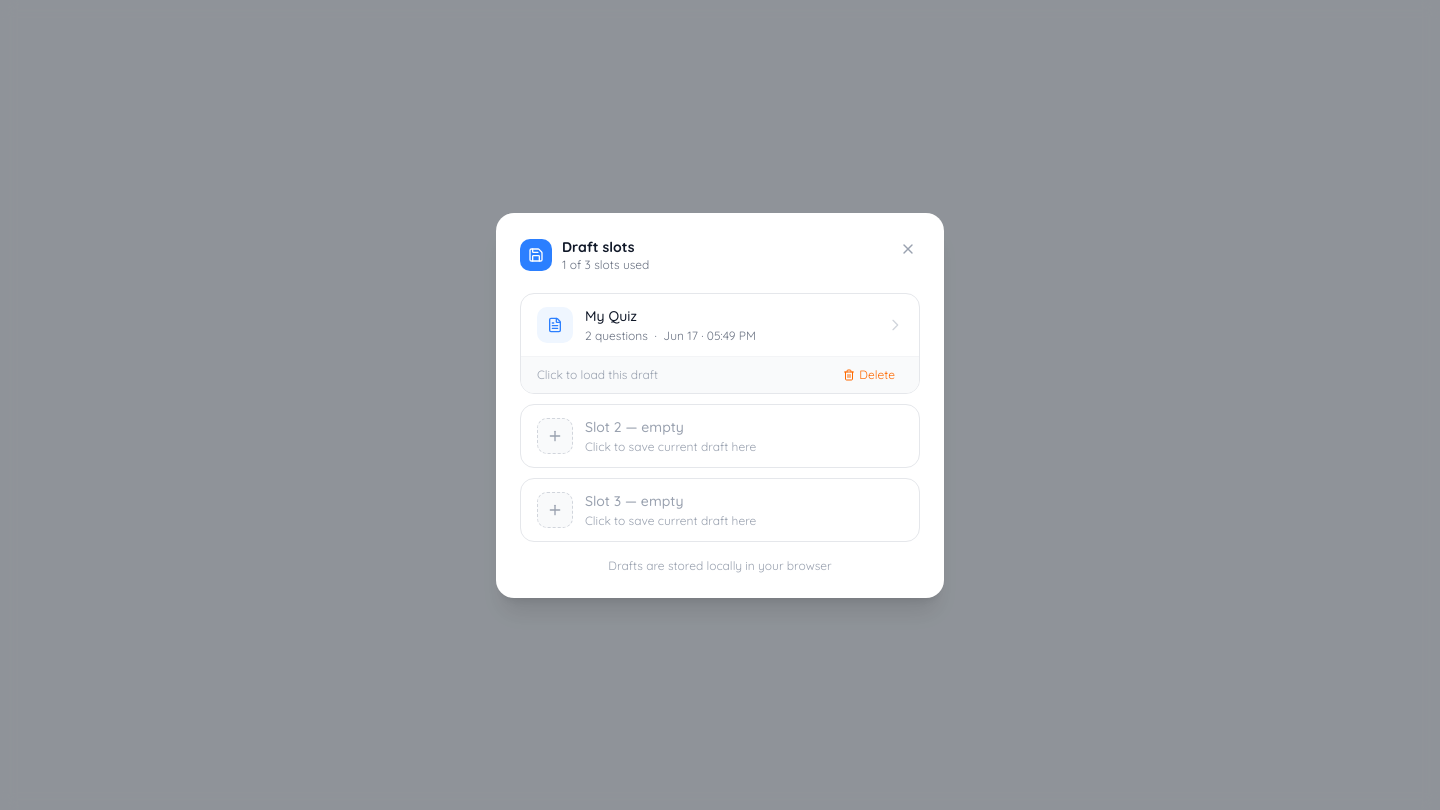
Test: DraftPopup UI behaviour › FE-65: dismisses the duplicate warning when its × button is clicked
Click the button "Slot 2 — empty Click to save current draft here": point(720, 436) [521,404,919,466]
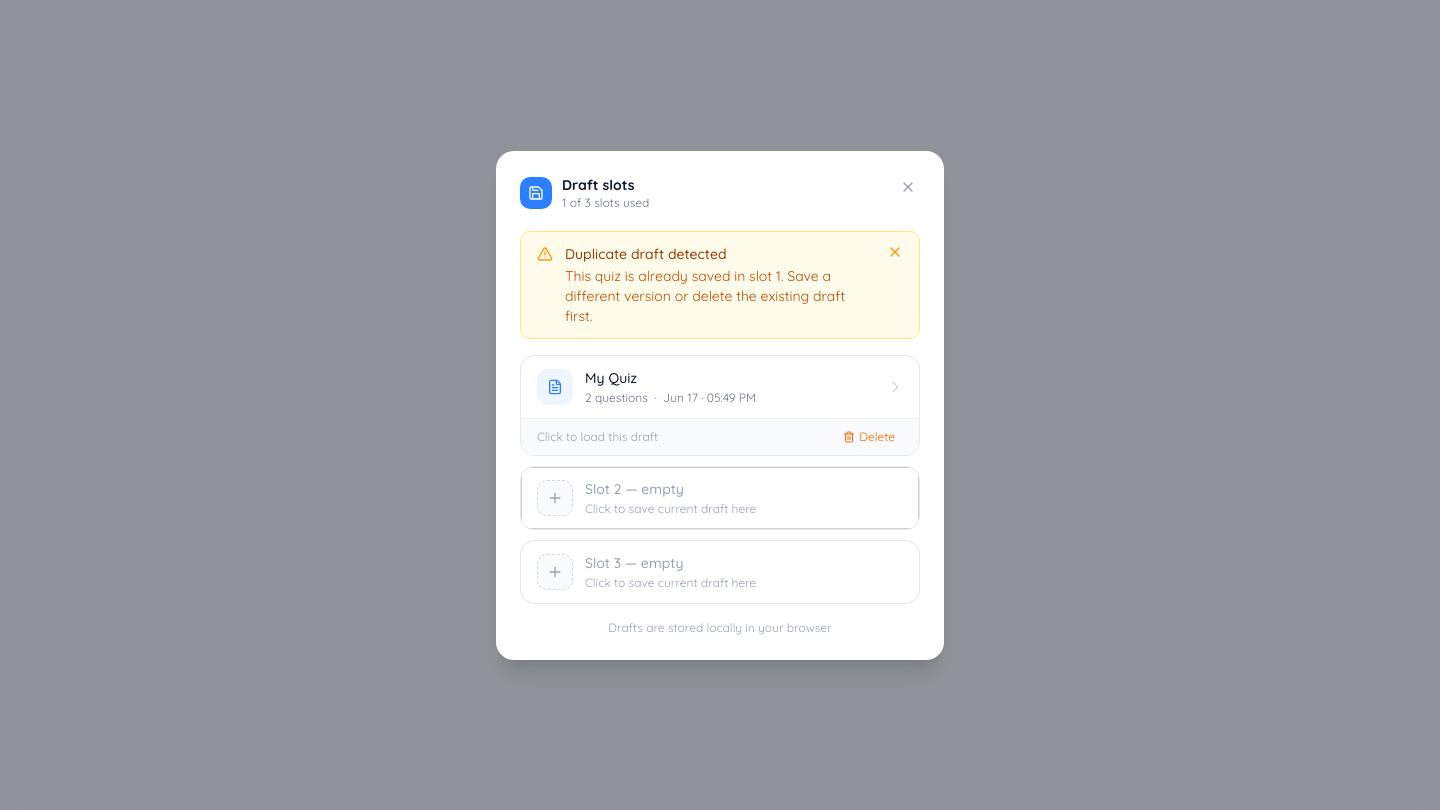
Expected: the text "Duplicate draft detected" is shown, [565,244,726,262]
Click the button named "dismiss": point(895, 252) [887,244,903,260]
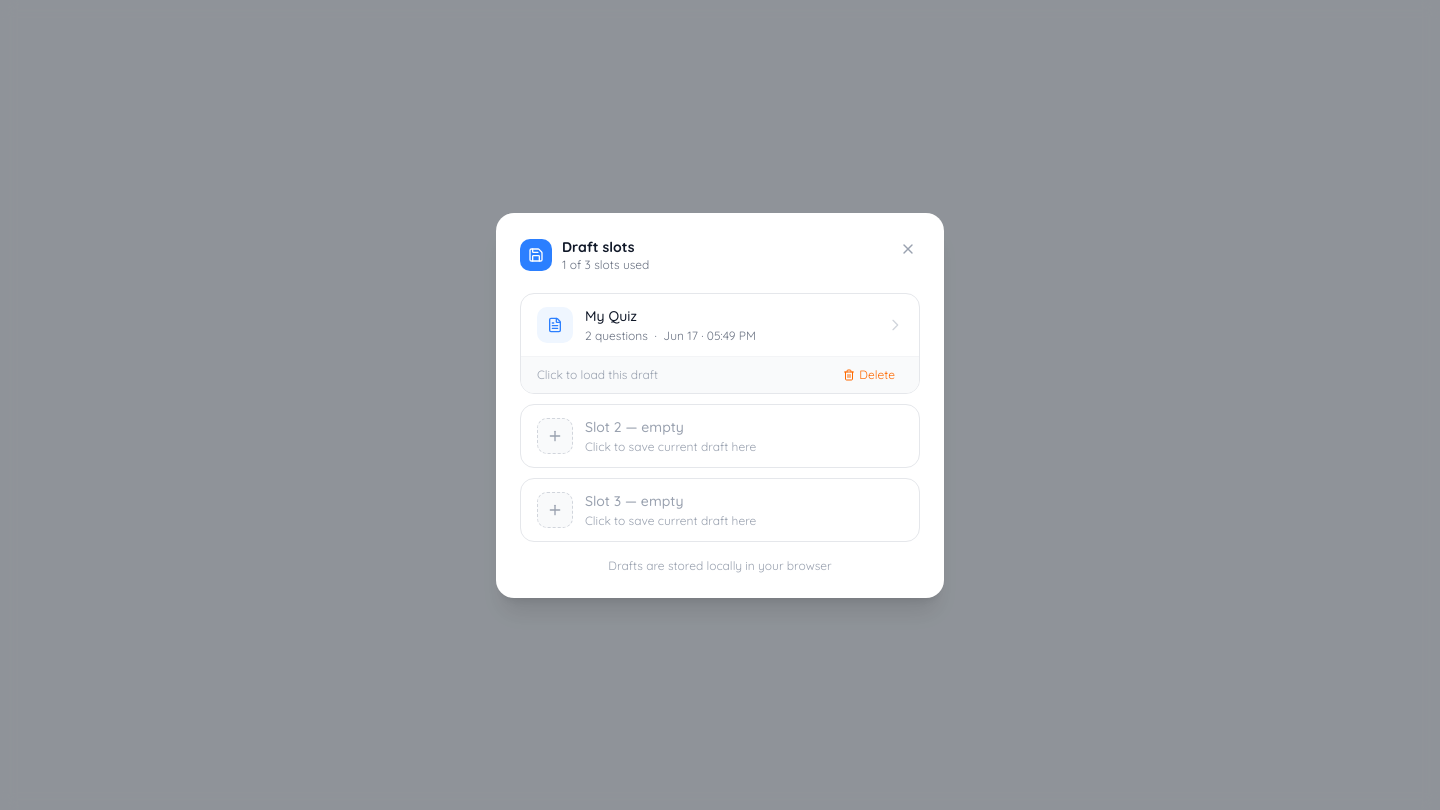
Expected: the text "Duplicate draft detected" is gone
